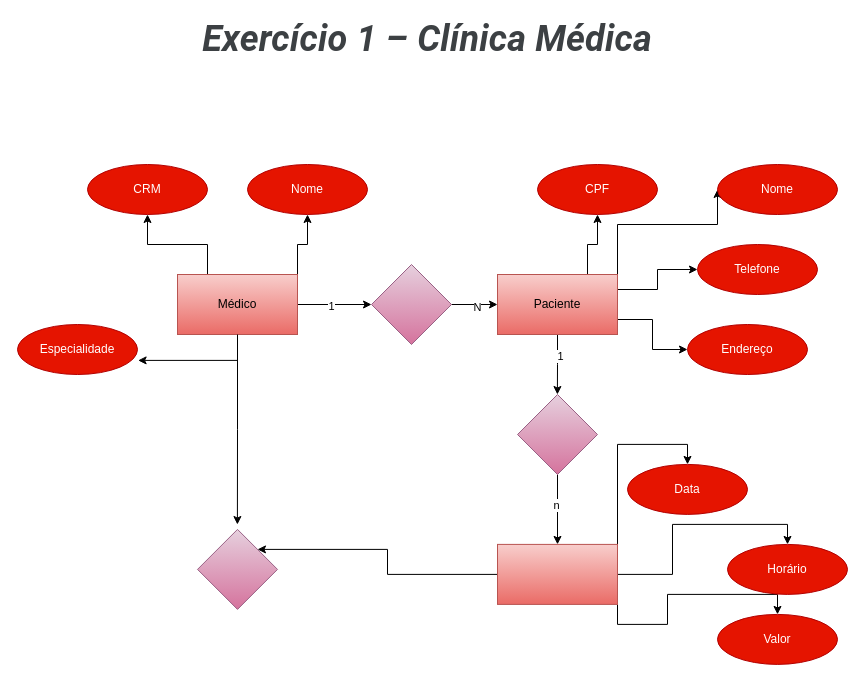
Image size: 865x682. Some labels were removed from this diagram. Each missing label, with the centre of its shape:
atende: pixel 411 304
Consulta: pixel 557 573
marca: pixel 557 434
realiza: pixel 237 568
